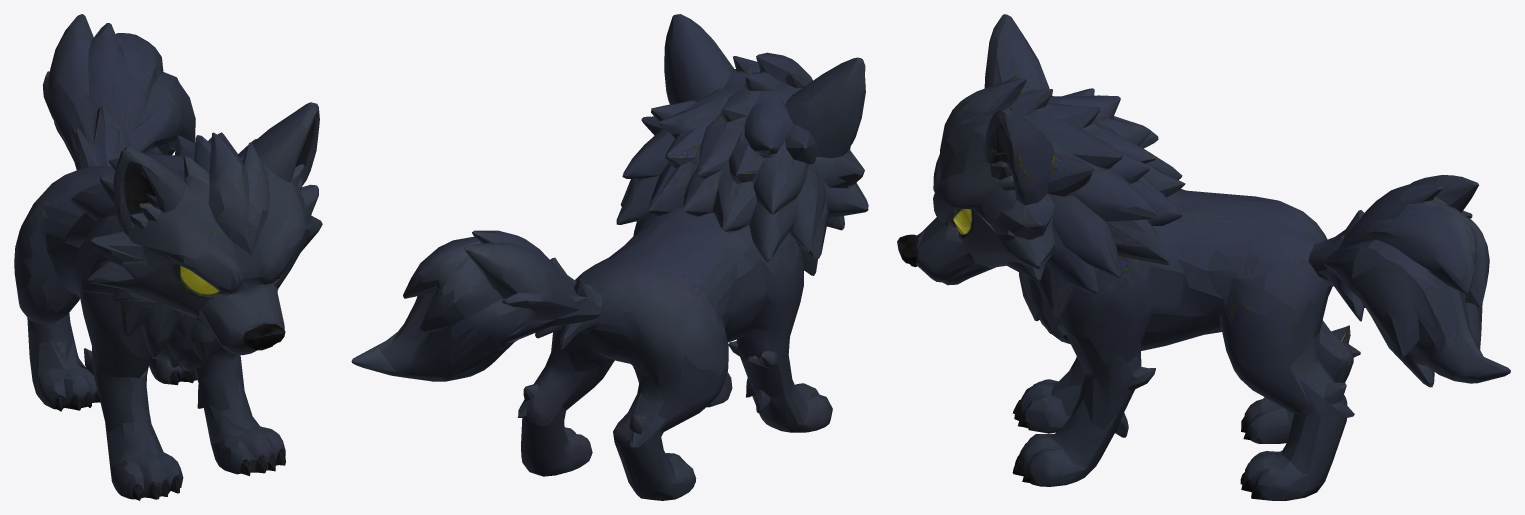
Rendered from wolf.glb.
3 renders of one model, left to right at view 1: azimuth 30°, elevation 25°; view 2: azimuth 150°, elevation 25°; view 3: azimuth 270°, elevation 25°, orthographic. The views are drawn at different scales.
Bounding box in the file's own units: 1.14 × 1.31 × 1.9.
Materials: 1 (1 with a texture image).
